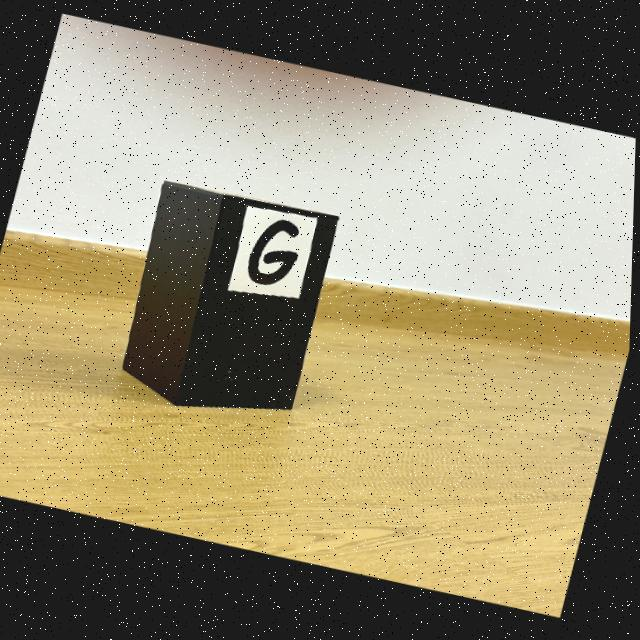G: (249, 220, 300, 286)
